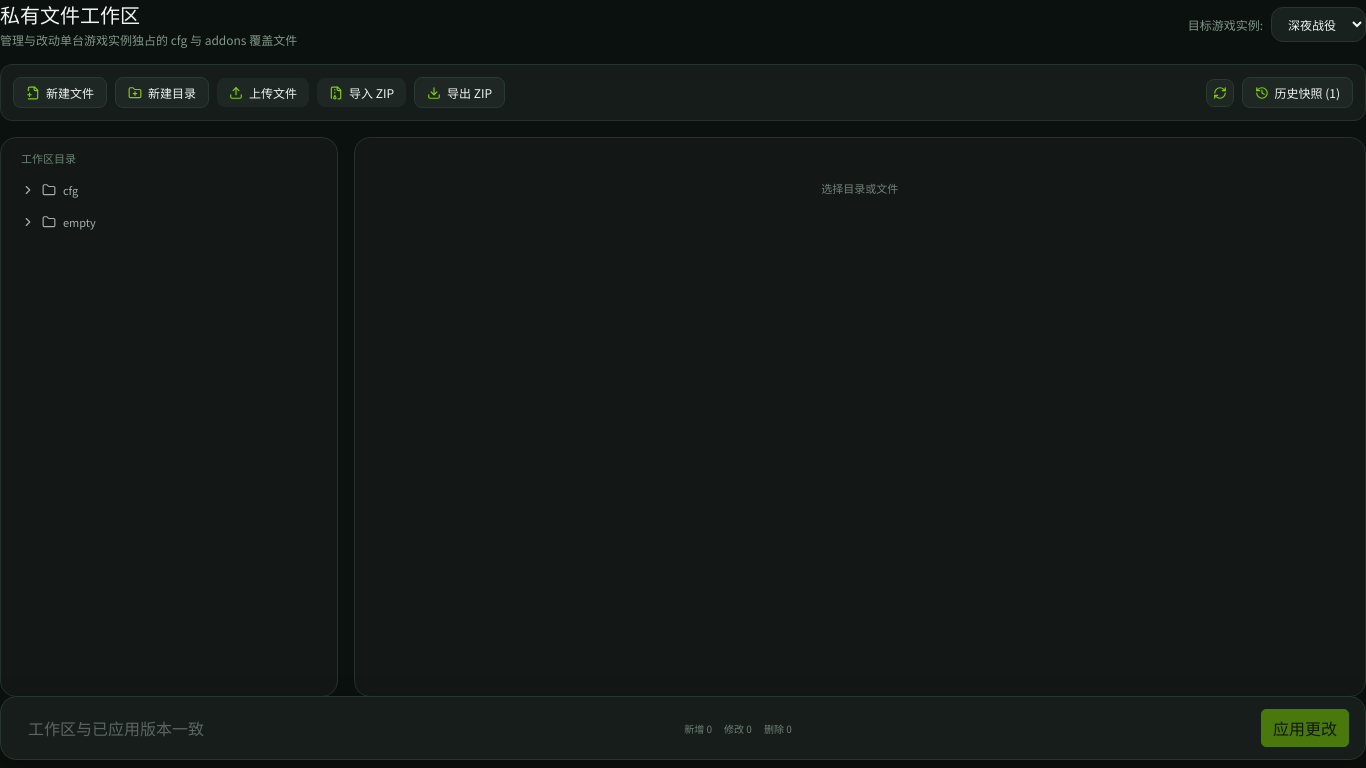
Test: PrivateFilesPage › loads path-specific file history
What coordinates should you click on to do the following:
click the list item "cfg"
I would click on:
 (28, 190)
Its box is x1=13 y1=174 x2=324 y2=206.
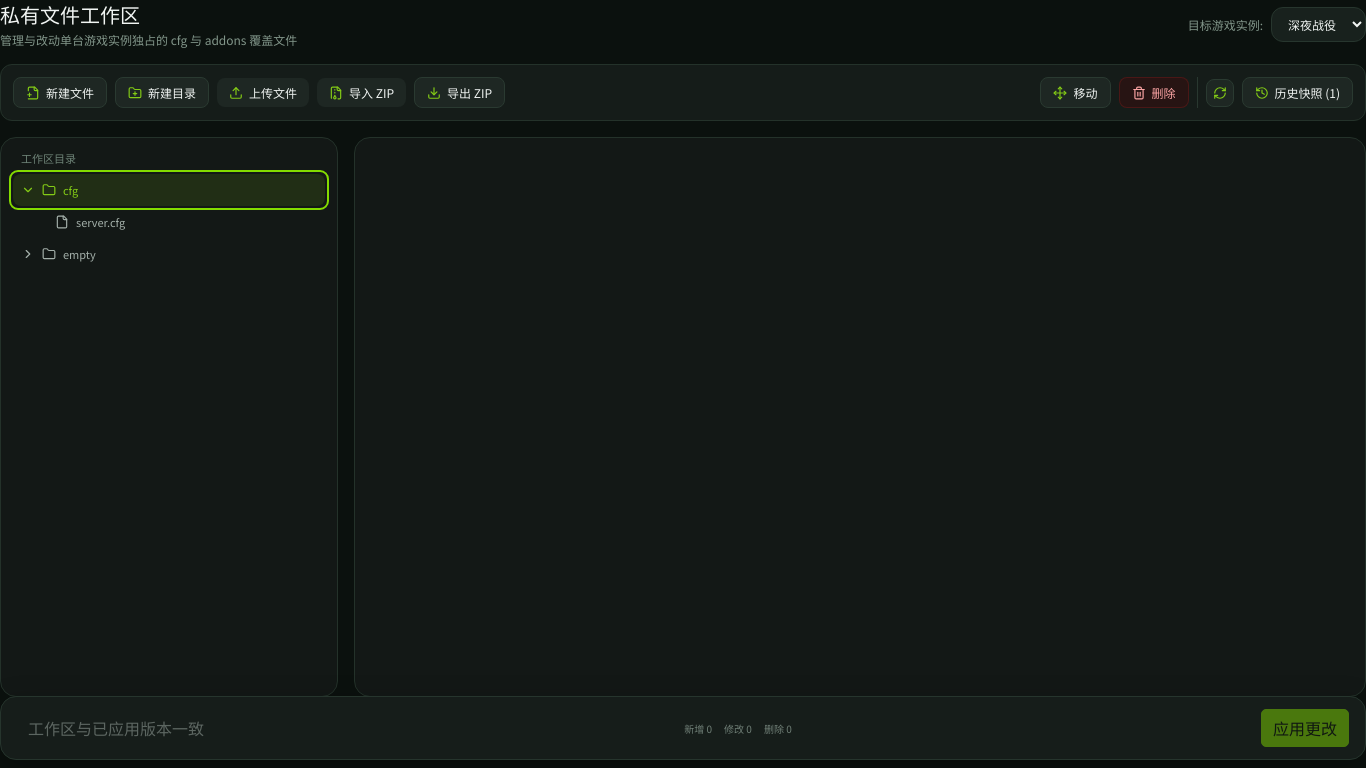
What coordinates should you click on to do the following:
click the list item "server.cfg"
I would click on:
 (101, 222)
Its box is x1=27 y1=206 x2=324 y2=238.
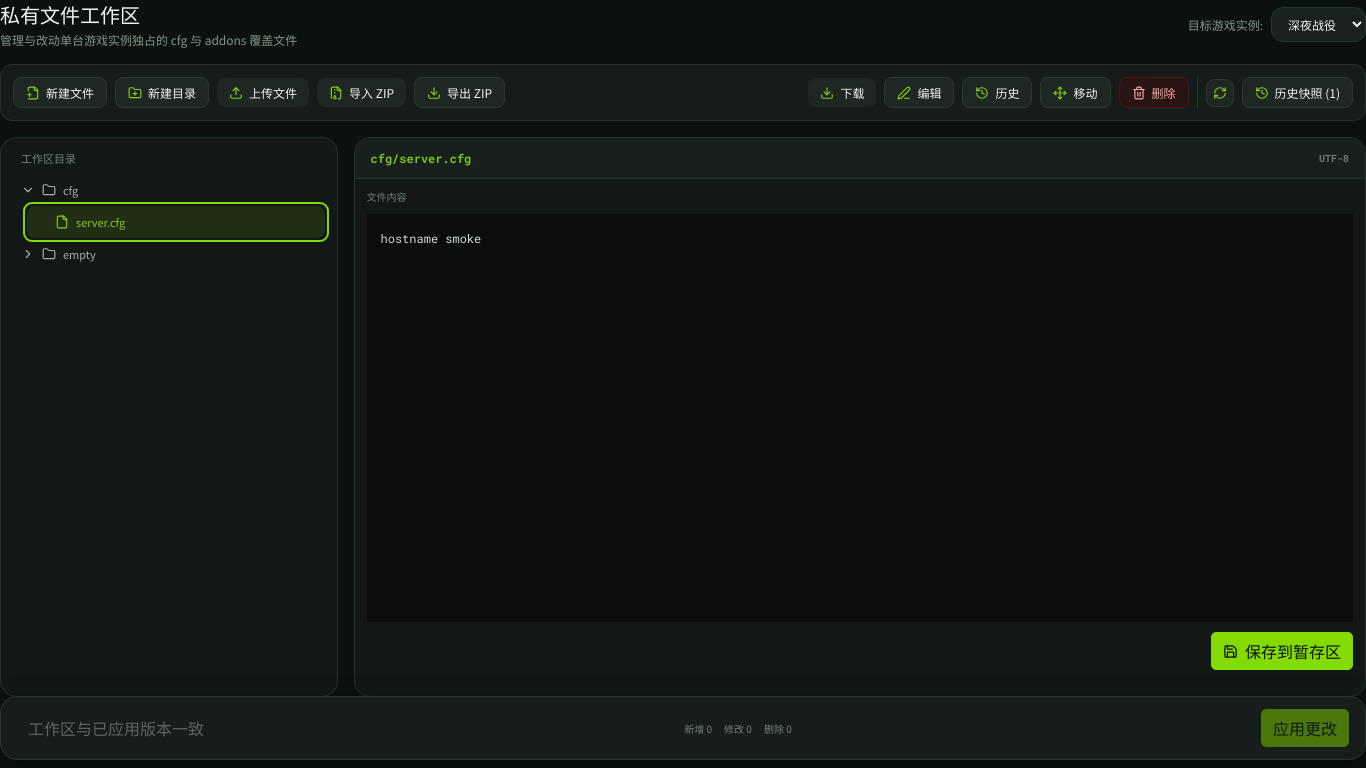
What coordinates should you click on to do the following:
click the button with aria-label "历史 server.cfg"
I would click on:
 (998, 92)
Its box is x1=962 y1=77 x2=1032 y2=108.
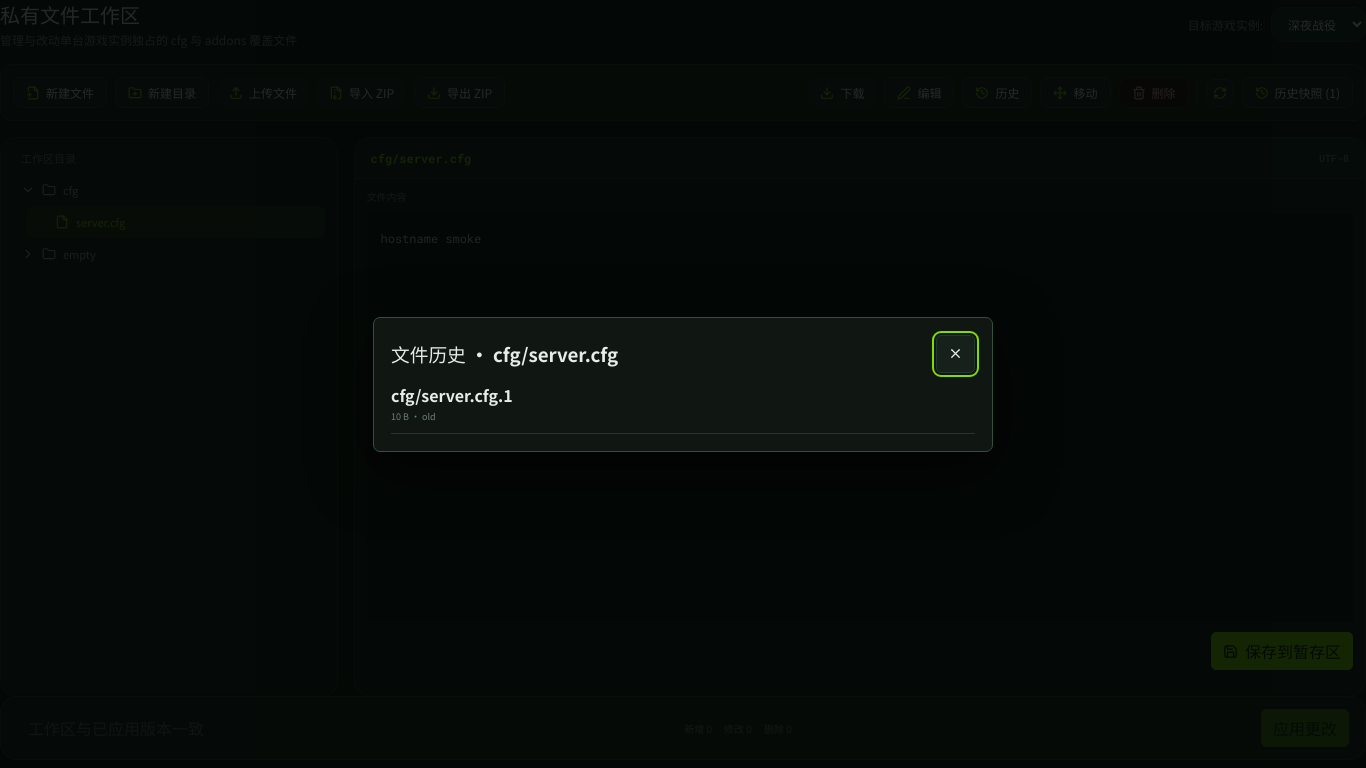
Check: the dialog "文件历史 · cfg/server.cfg cfg/server.cfg.1 10 B · old" is shown, box x1=373 y1=316 x2=993 y2=452
